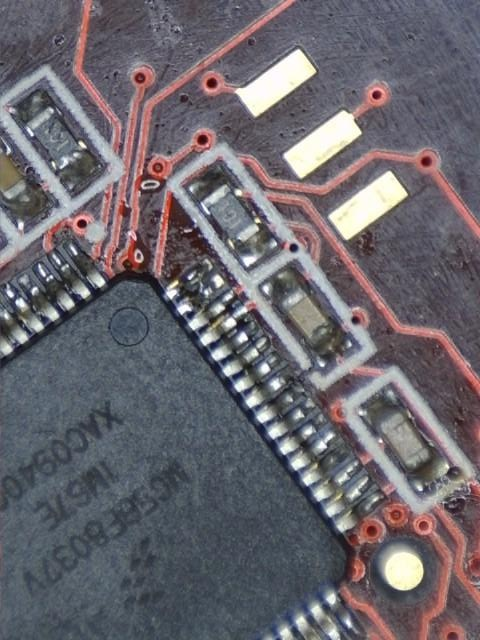pcb_defect: (162, 258, 224, 316)
